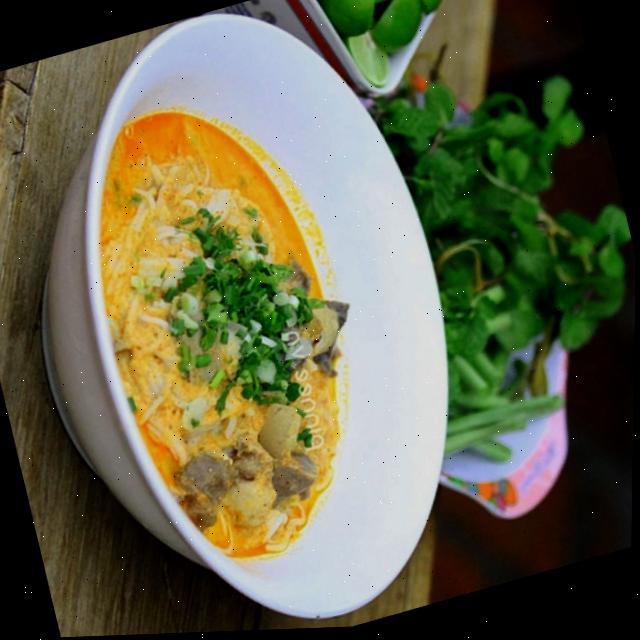汤锅炖物: (0, 0, 524, 640)
